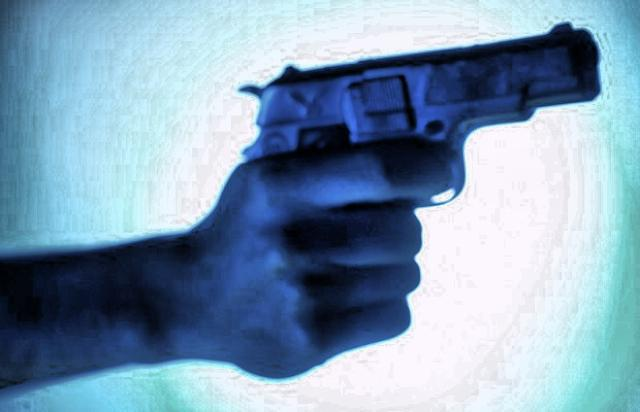pistol: (231, 20, 599, 216)
